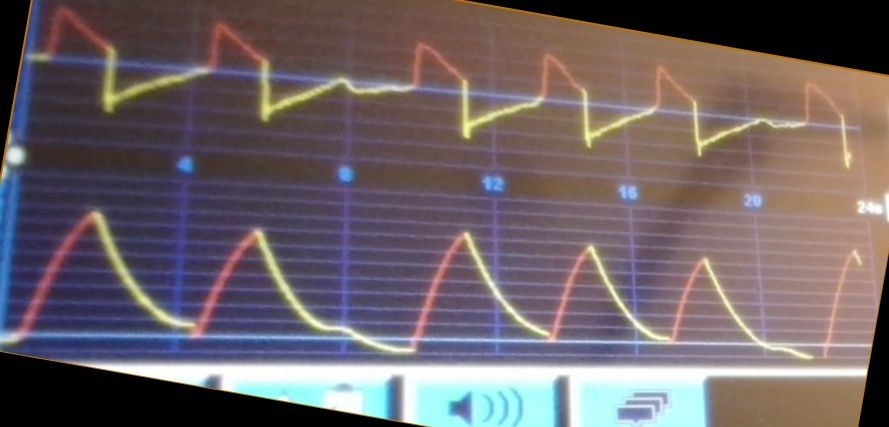Ineffective_effort Flow: (36, 3, 853, 166)
Ineffective_effort Volume: (9, 207, 866, 359)
